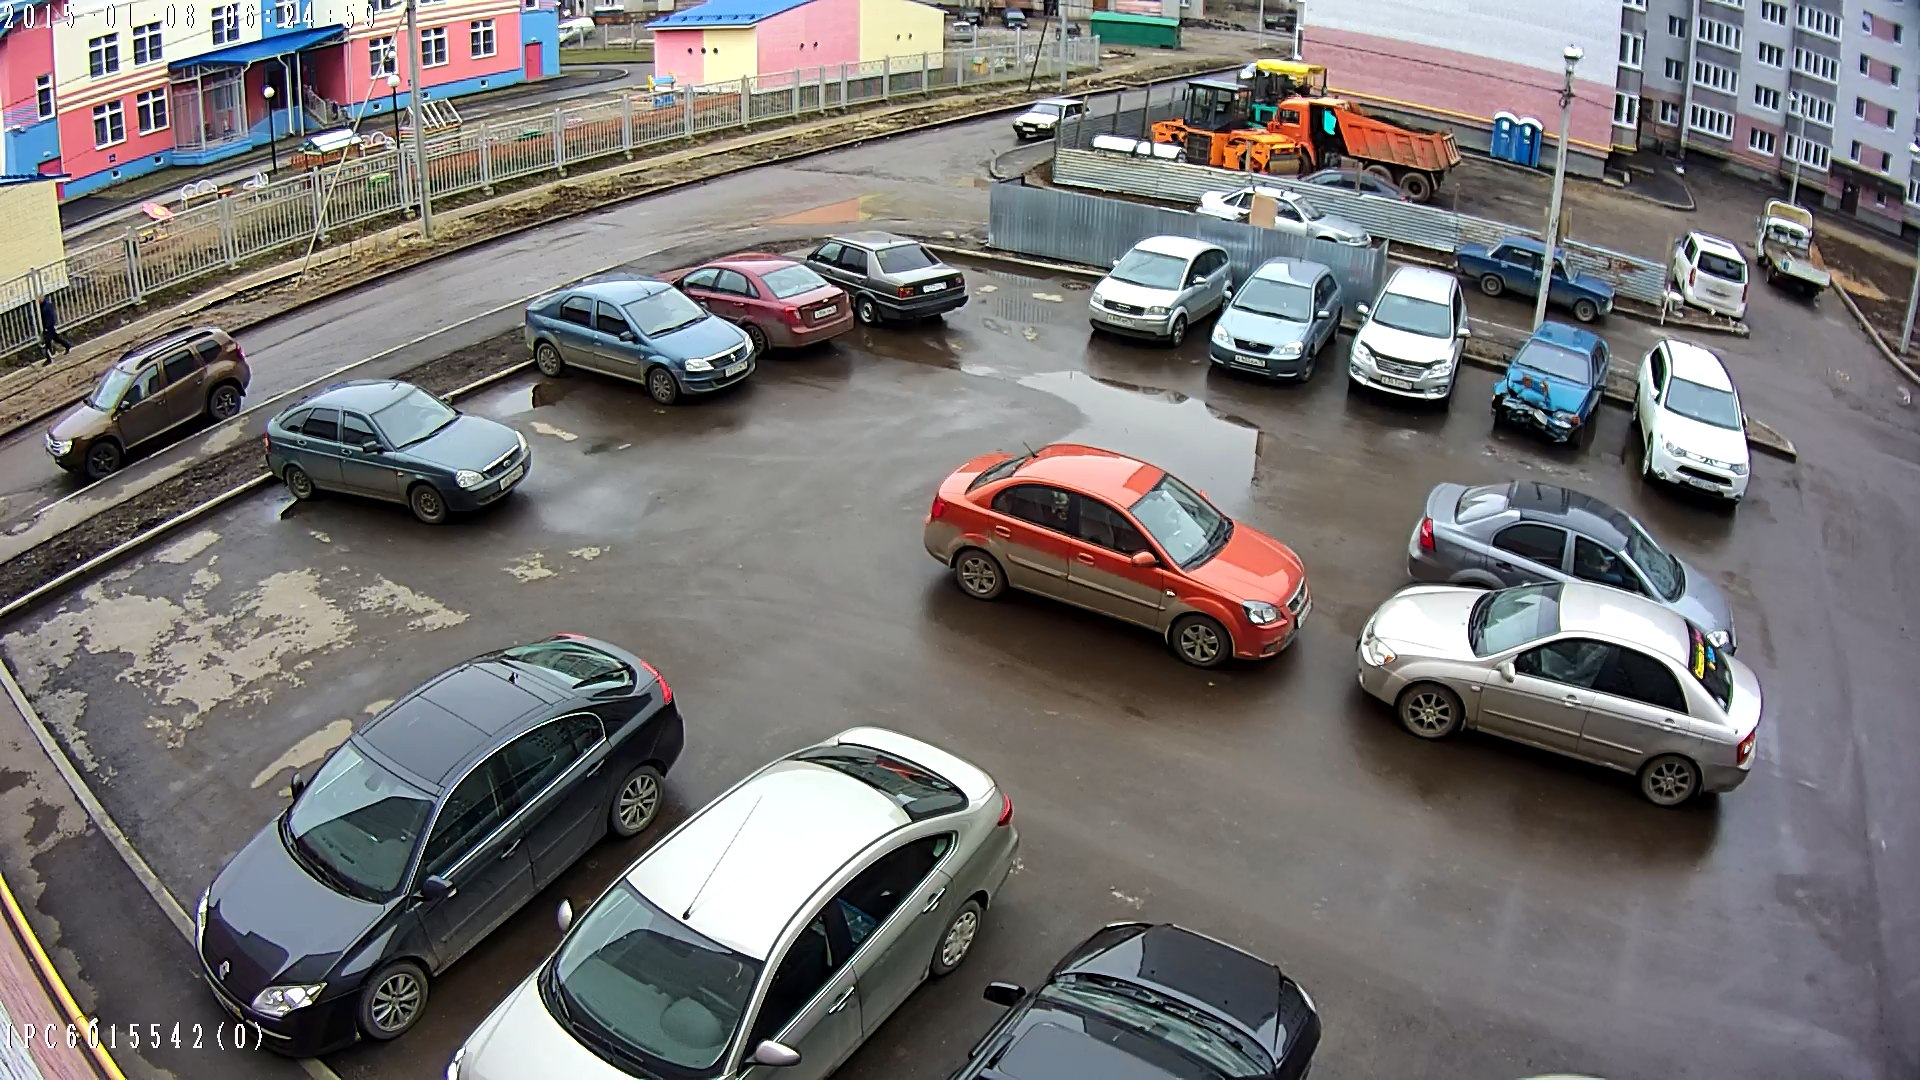Car: (195, 634, 683, 1056), (444, 727, 1017, 1080), (1356, 583, 1764, 808), (923, 443, 1309, 669), (948, 920, 1323, 1080), (1406, 481, 1735, 651), (265, 380, 531, 525), (45, 326, 251, 479), (524, 280, 757, 405), (649, 252, 855, 353), (1633, 338, 1750, 506), (1270, 99, 1458, 203), (1349, 266, 1472, 406), (782, 233, 968, 324), (1209, 258, 1342, 382), (1087, 236, 1233, 345), (1147, 76, 1303, 175), (1491, 322, 1610, 448), (1457, 237, 1615, 322), (1197, 187, 1371, 247), (1755, 200, 1830, 301), (1671, 231, 1749, 320), (1273, 169, 1410, 203), (1250, 58, 1327, 117), (1013, 98, 1087, 140), (556, 17, 595, 44), (1265, 8, 1298, 34), (1056, 18, 1081, 40), (1004, 8, 1029, 29), (951, 20, 973, 41), (957, 9, 984, 25), (1238, 62, 1257, 80)
